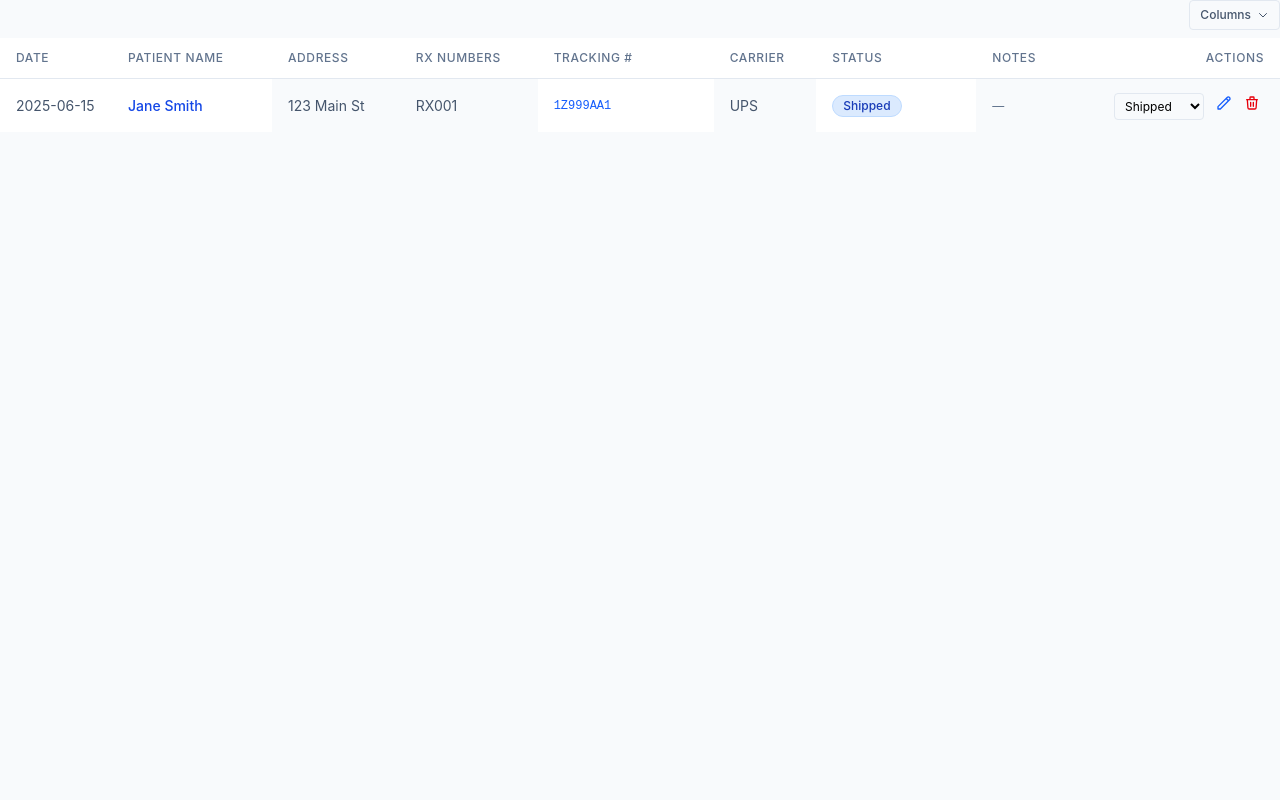
Scenario: patient settings modal › opens the settings modal when the desktop patient name is clicked
This screenshot has width=1280, height=800.
Click the button "Jane Smith": (165, 106) [128,96,203,116]
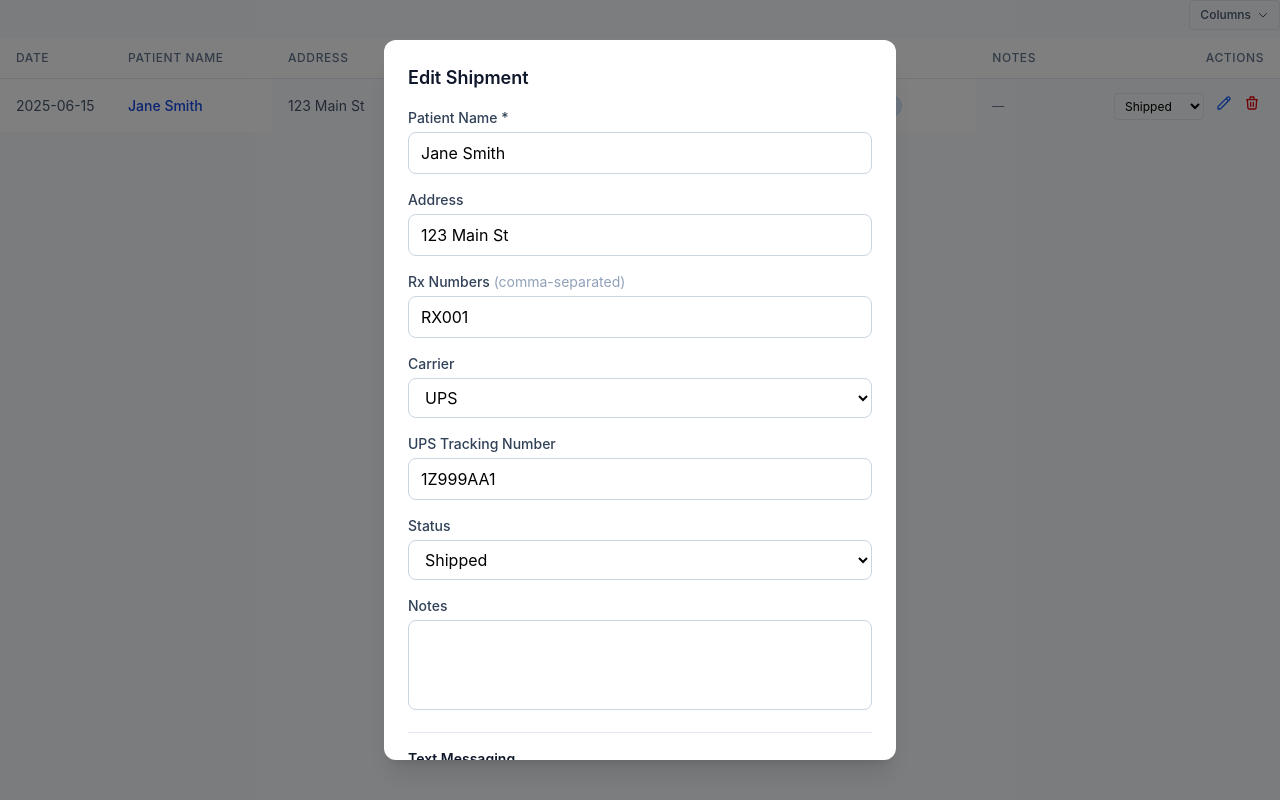
Expected: the heading "Edit Shipment" is shown, [408,67,529,88]
Expected: the field showing "Jane Smith" below "Patient Name *" is shown, [408,132,872,174]
